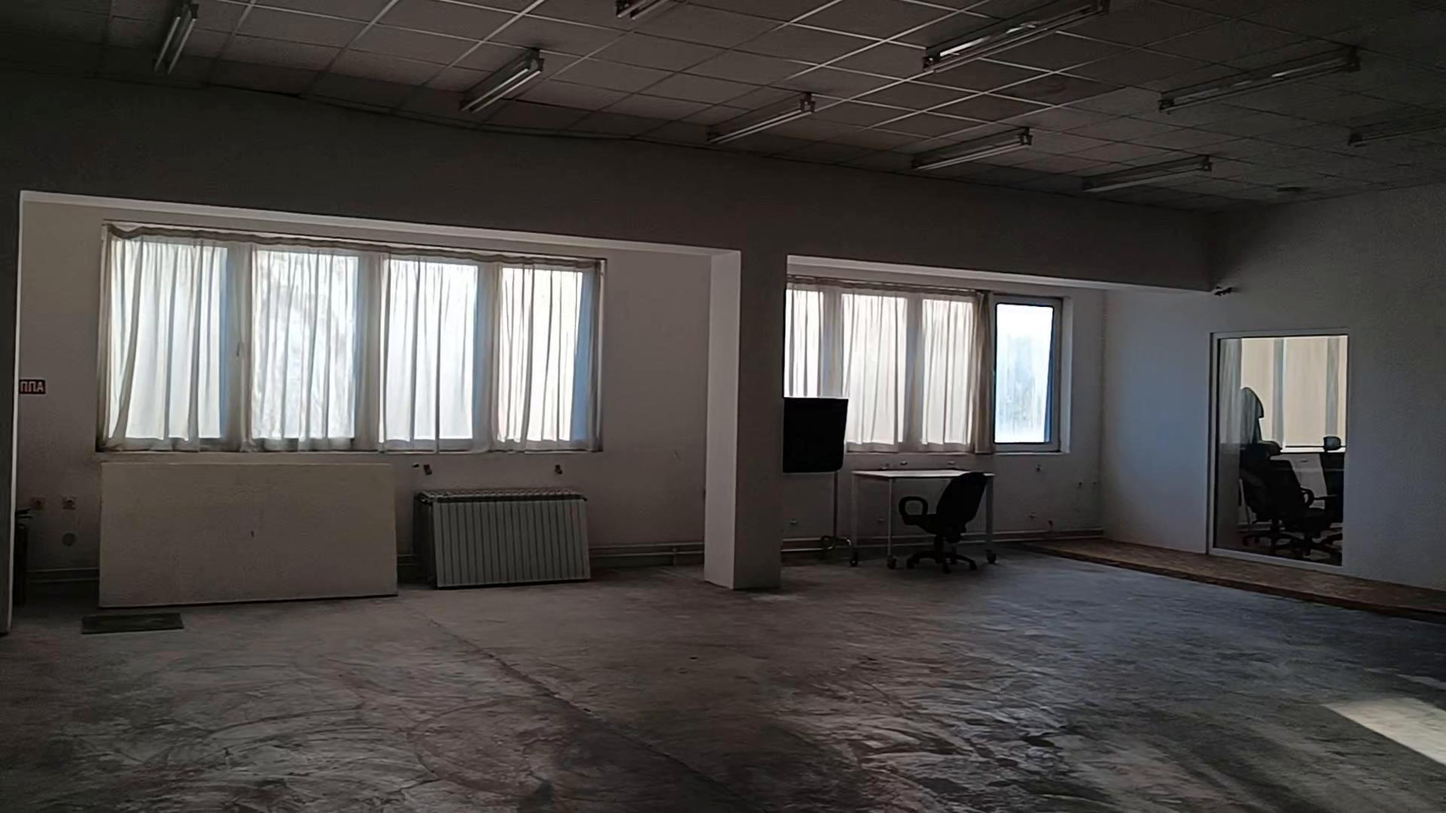ceiling: (0, 0, 1445, 206)
floor: (0, 553, 1445, 812)
wall: (1, 78, 1219, 625), (1105, 171, 1445, 578), (596, 261, 715, 546), (999, 305, 1111, 532)
